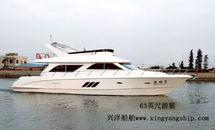yacht: (9, 34, 192, 96)
